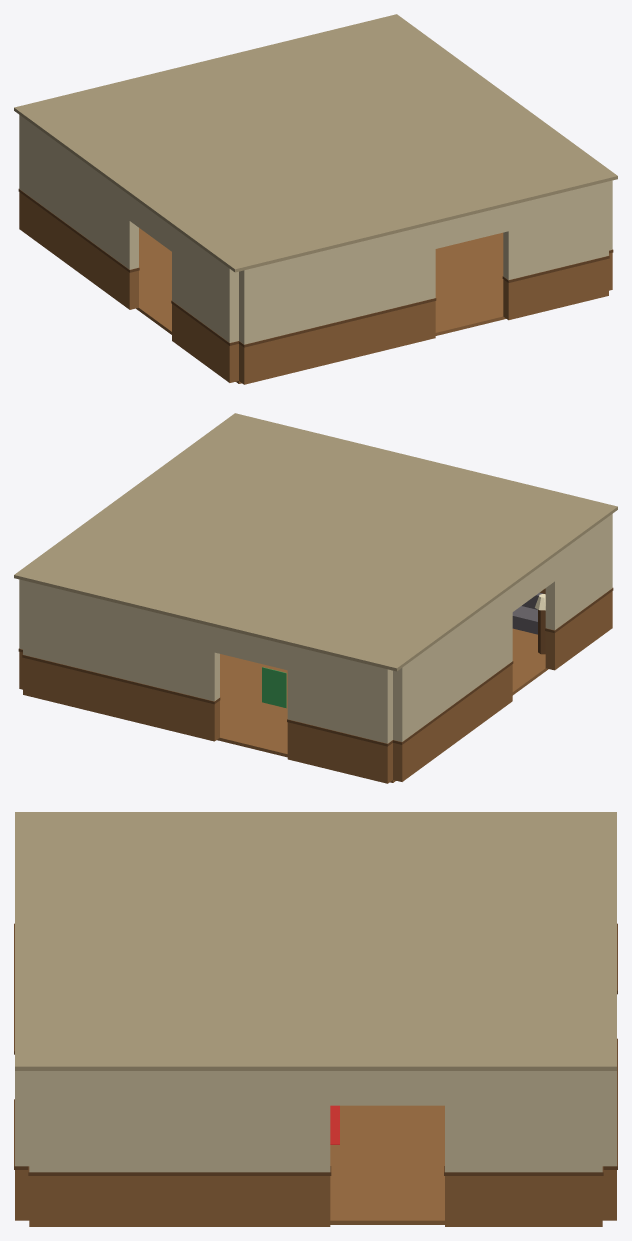
File: room_shared_break_room.glb
3 renders of one model, top to bottom at view 1: azimuth 30°, elevation 25°; view 2: azimuth 150°, elevation 25°; view 3: azimuth 270°, elevation 25°, orthographic. The views are drawn at different scales.
Visible parts, largest first — view 1: room_shared_break_room; view 2: room_shared_break_room; view 3: room_shared_break_room.
Part boxes in pixels (x1,y1,x2,y2): room_shared_break_room: [14, 14, 617, 384]; room_shared_break_room: [14, 413, 617, 783]; room_shared_break_room: [14, 812, 617, 1226].
Size of the model in its own units: 12.62 by 3.8 by 12.64.
Materials: 1 (1 with a texture image).
